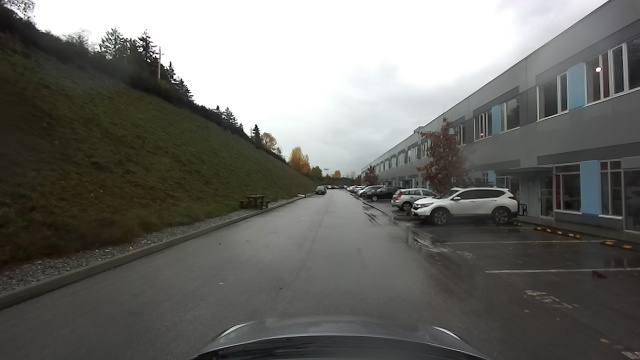car: (411, 183, 518, 225), (391, 186, 411, 211), (360, 184, 387, 202), (312, 184, 327, 196)
